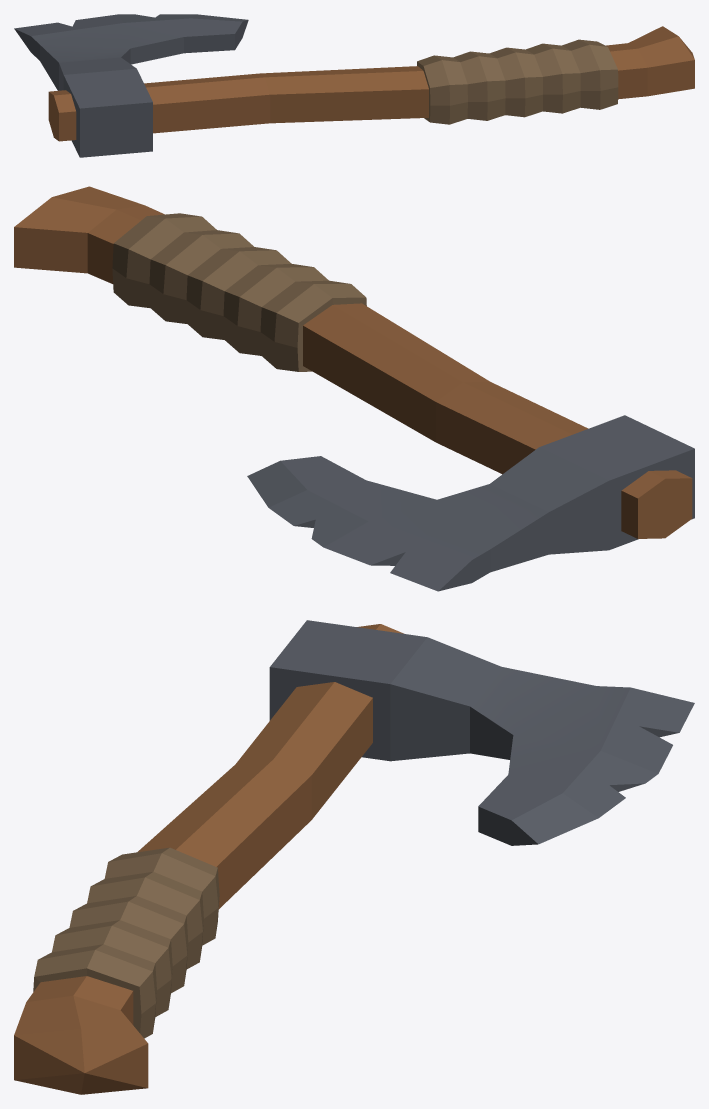
Rendered from Axe.fbx.
The picture shows the model from 3 angles, top to bottom: view 1: azimuth 30°, elevation 25°; view 2: azimuth 150°, elevation 25°; view 3: azimuth 270°, elevation 25°; orthographic projection. The views are drawn at different scales.
Parts seen in each view (by area): view 1: Axe; view 2: Axe; view 3: Axe.
Part boxes in pixels (x1,y1,x2,y2): Axe: [14, 14, 694, 157]; Axe: [14, 186, 694, 591]; Axe: [14, 620, 694, 1094].
Bounding box in the file's own units: 0.7734 × 0.5277 × 0.0805.
